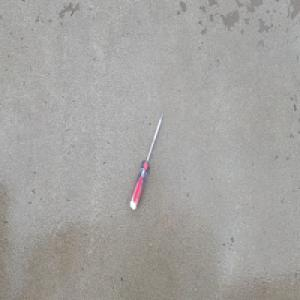Screwdriver: (128, 109, 165, 212)
